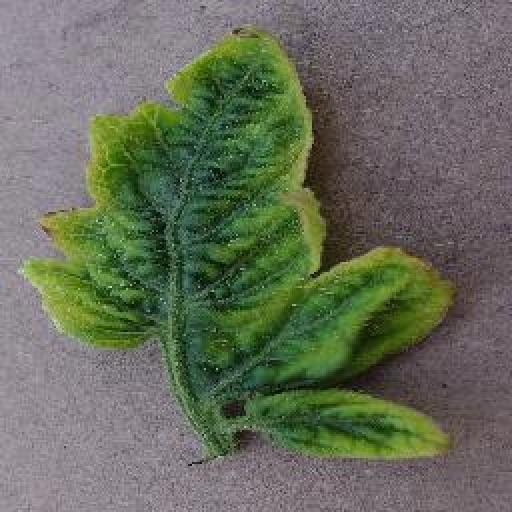disease_tomato: (24, 26, 454, 462)
